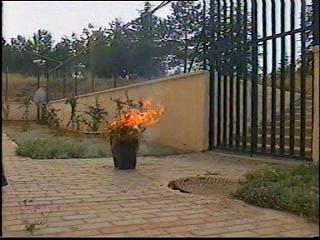fire: (102, 96, 169, 131)
